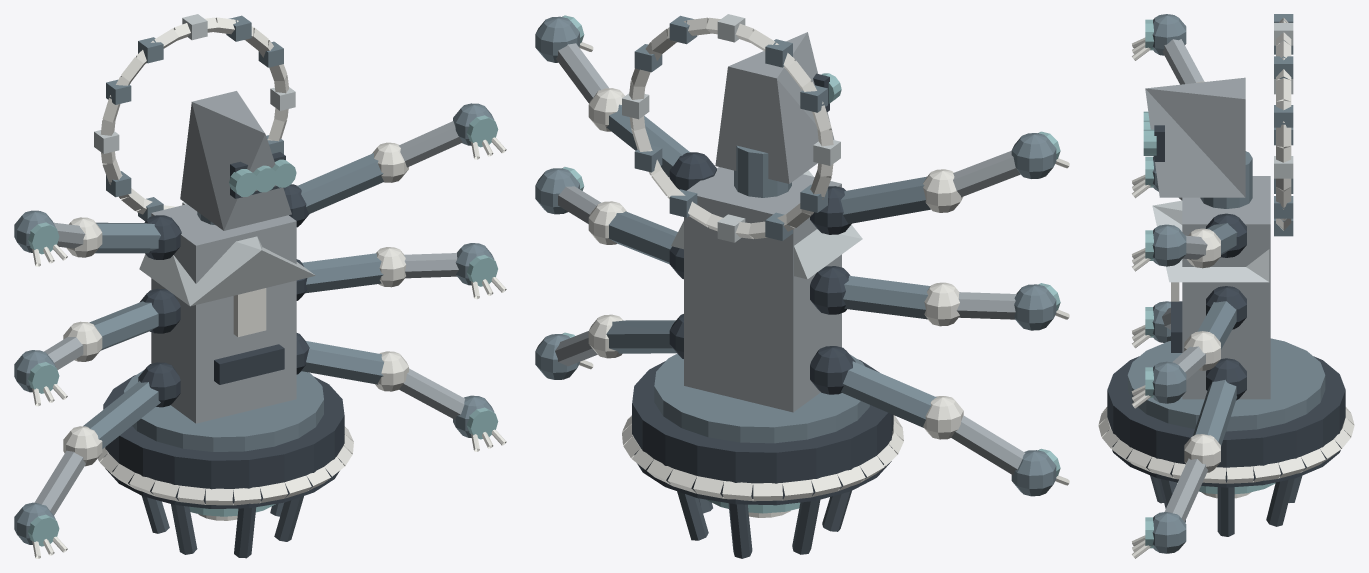
Rendered from Overseer_Seraph.obj.
The picture shows the model from 3 angles, left to right: view 1: azimuth 30°, elevation 25°; view 2: azimuth 150°, elevation 25°; view 3: azimuth 270°, elevation 25°; orthographic projection. The views are drawn at different scales.
Visible parts, largest first — view 1: Overseer_Seraph; view 2: Overseer_Seraph; view 3: Overseer_Seraph.
Part boxes in pixels (box(x1,y1,x2,y2)): Overseer_Seraph: box(14, 14, 506, 558); Overseer_Seraph: box(535, 14, 1069, 558); Overseer_Seraph: box(1098, 14, 1354, 558).
Size of the model in its own units: 4.52 by 4.45 by 2.15.
